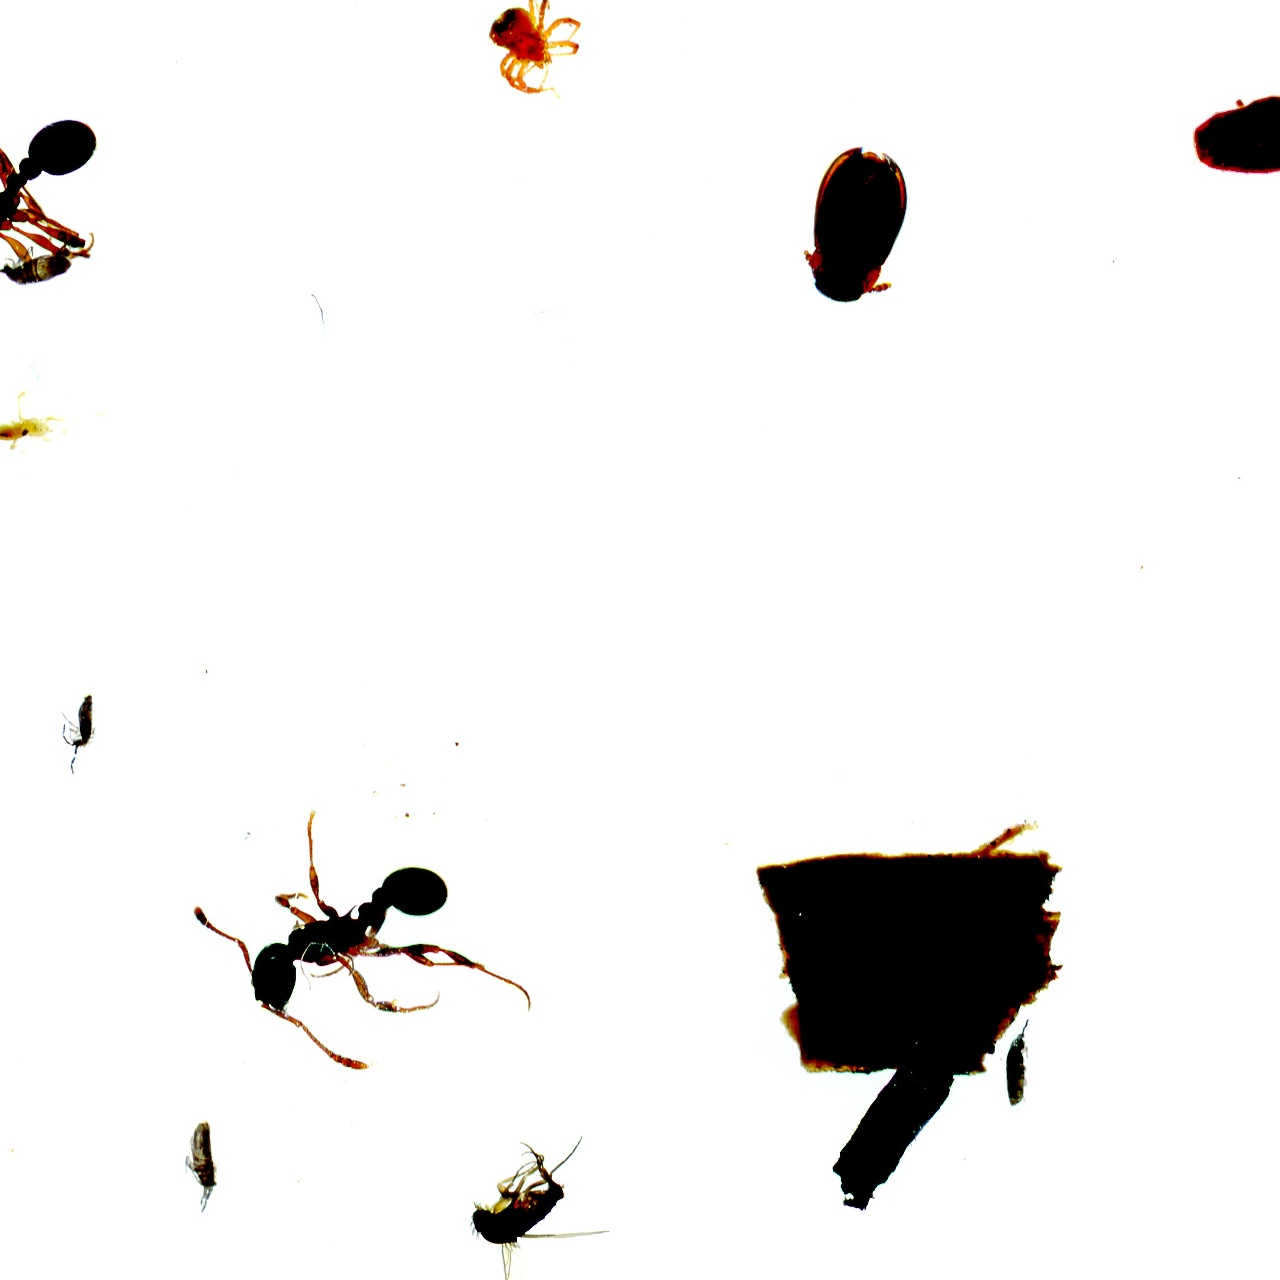arthropod: (178, 811, 542, 1077), (0, 29, 162, 388), (465, 1128, 618, 1280), (797, 138, 914, 307), (483, 0, 588, 98), (1184, 90, 1280, 189), (0, 388, 70, 457), (53, 681, 101, 775), (0, 238, 81, 293), (183, 1116, 226, 1217), (1002, 1017, 1039, 1111)
